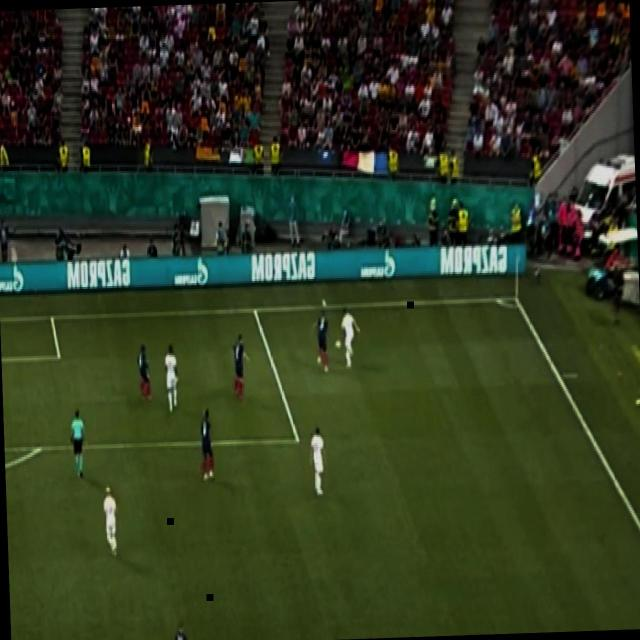ball: (332, 338, 343, 350)
player-white: (308, 298, 332, 378), (66, 404, 90, 480), (229, 330, 253, 404), (196, 406, 218, 482), (161, 338, 182, 416), (339, 301, 362, 372), (100, 484, 122, 558), (307, 422, 327, 497), (136, 341, 156, 405), (168, 616, 192, 640)
